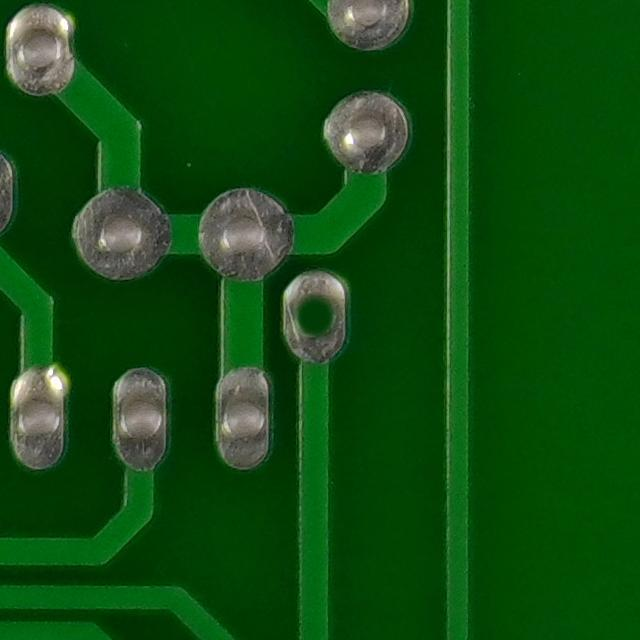missing_hole: (281, 281, 360, 360)
